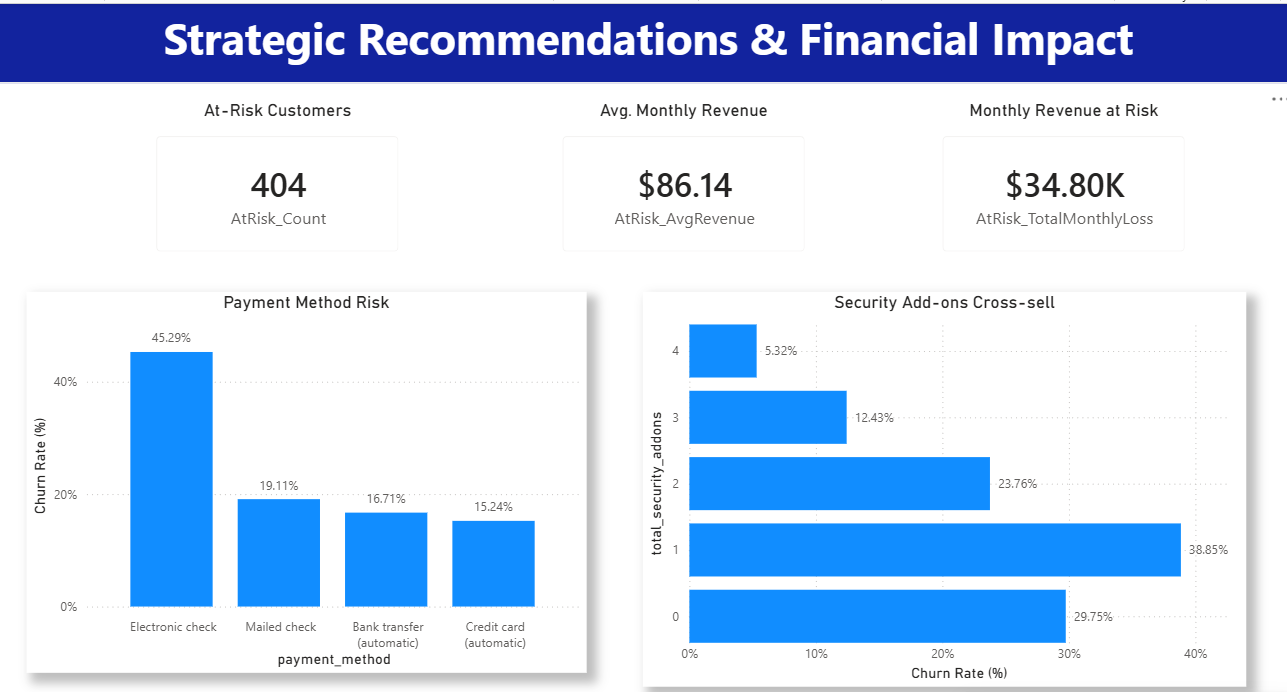

Layout of this report page (visuals, bound fields, positions):
{"tool":"powerbi","page":{"name":"Strategic Recommendations & Financial Impact","canvas":[1280,720],"ordinal":3},"visuals":[{"type":"textbox","box":[9.8,0,1270.5,78.3],"z":0},{"type":"columnChart","title":"Payment Method Risk","fields":{"Category":["telco_churn_with_rfm.payment_method"],"Y":["telco_churn_cleaned_master.Churn Rate (%)"]},"box":[36.7,282.5,547.8,373],"z":1},{"type":"barChart","title":"Security Add-ons Cross-sell","fields":{"Y":["telco_churn_cleaned_master.Churn Rate (%)"],"Category":["telco_churn_with_rfm.total_security_addons"]},"box":[639.5,282.5,590.6,386.4],"z":2},{"type":"cardVisual","title":"At-Risk Customers","fields":{"Data":["telco_churn_with_rfm.AtRisk_Count"]},"box":[146.7,94.2,271.5,166.3],"z":3},{"type":"cardVisual","title":"Avg. Monthly Revenue","fields":{"Data":["telco_churn_with_rfm.AtRisk_AvgRevenue"]},"box":[544.2,94.2,271.5,166.3],"z":4},{"type":"cardVisual","title":"Monthly Revenue at Risk","fields":{"Data":["telco_churn_with_rfm.AtRisk_TotalMonthlyLoss"]},"box":[915.9,94.2,271.5,166.3],"z":5}]}

Visuals, with their boxes on the page's 1280x720 design canvas (x1, y1, x2, y2). These are canvas units, not pixel positions in the 1287x692 screenshot, which may show the page scaled, cropped or inside an application window:
textbox: 10 0 1280 78
"Payment Method Risk" columnChart: 37 282 584 656
"Security Add-ons Cross-sell" barChart: 640 282 1230 669
"At-Risk Customers" cardVisual: 147 94 418 260
"Avg. Monthly Revenue" cardVisual: 544 94 816 260
"Monthly Revenue at Risk" cardVisual: 916 94 1187 260
